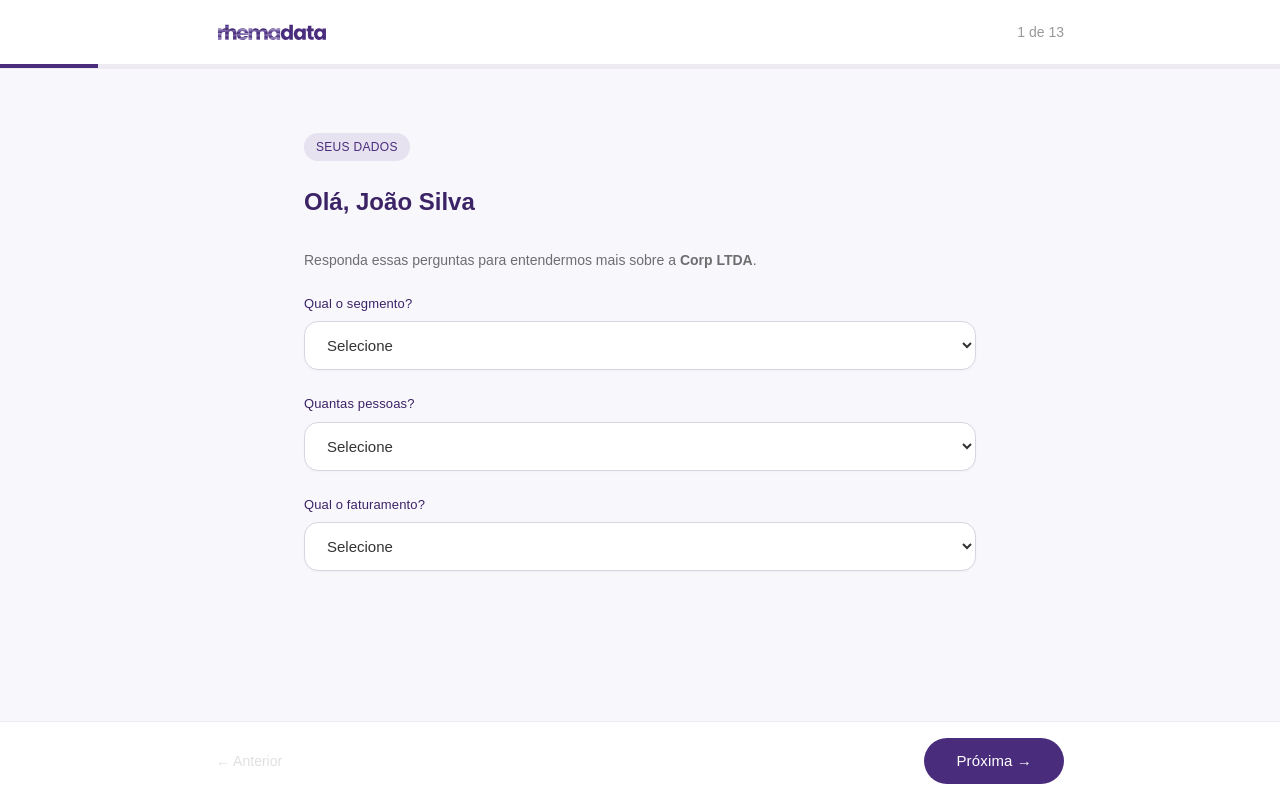
Test case: DiagnosticoPage › mostra erro ao tentar avançar sem selecionar perfil
Expected: the heading "Olá, João Silva" is shown, [304,188,475,215]
Click the button "Próxima →".
click(994, 761)  # box [924,738,1064,784]
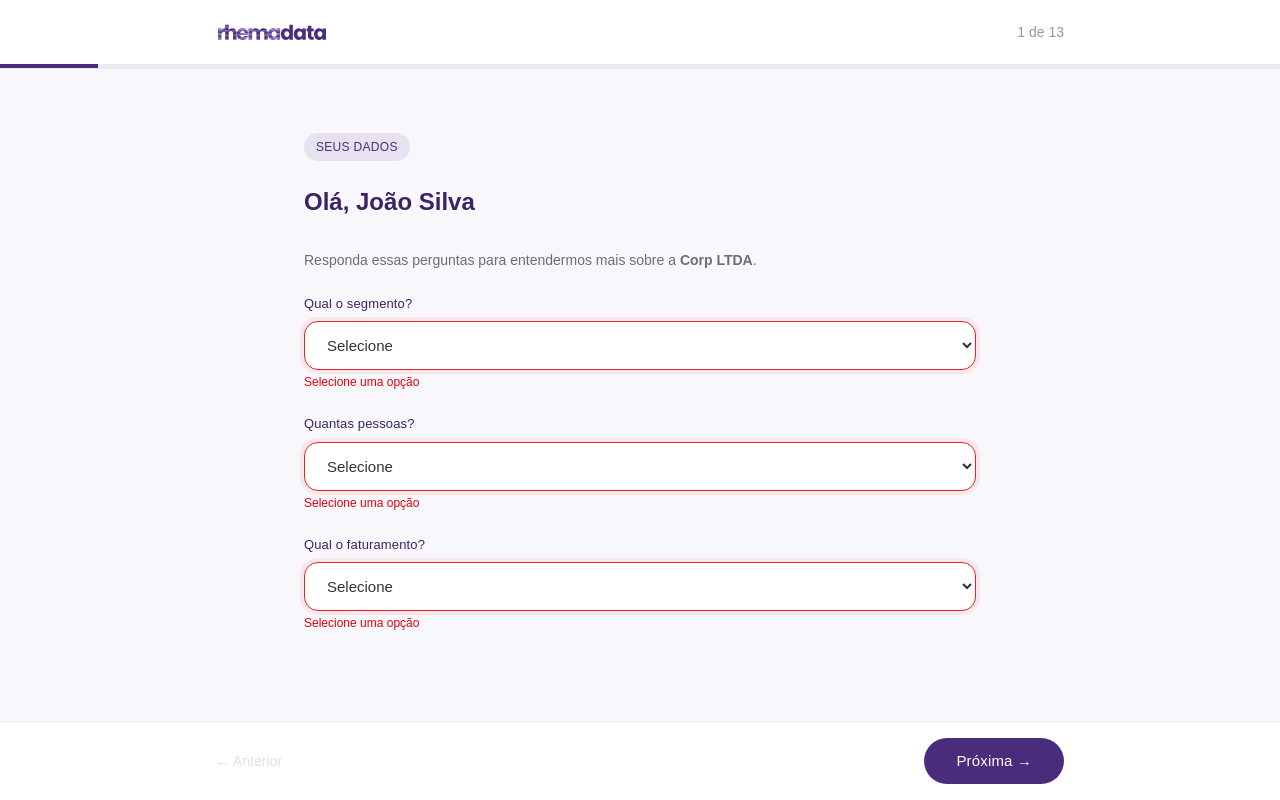
Result: the text "Selecione uma opção" below "Qual o segmento?" is shown at [304,375,419,389]
